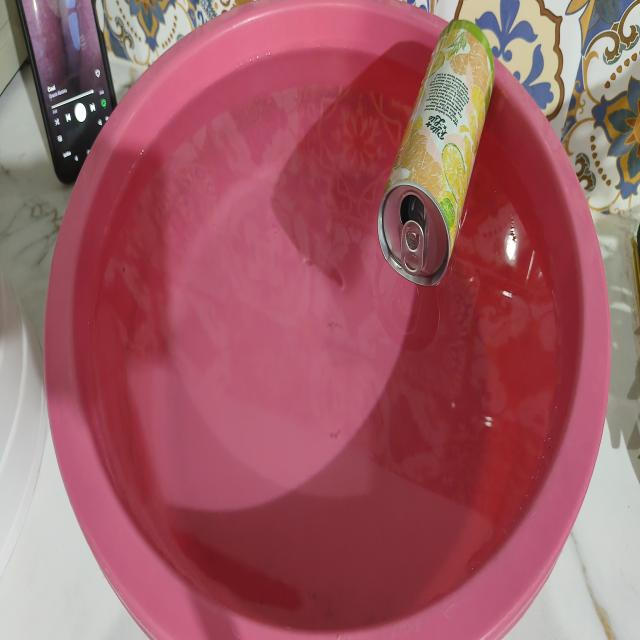Aluminum Can: (378, 20, 494, 286)
